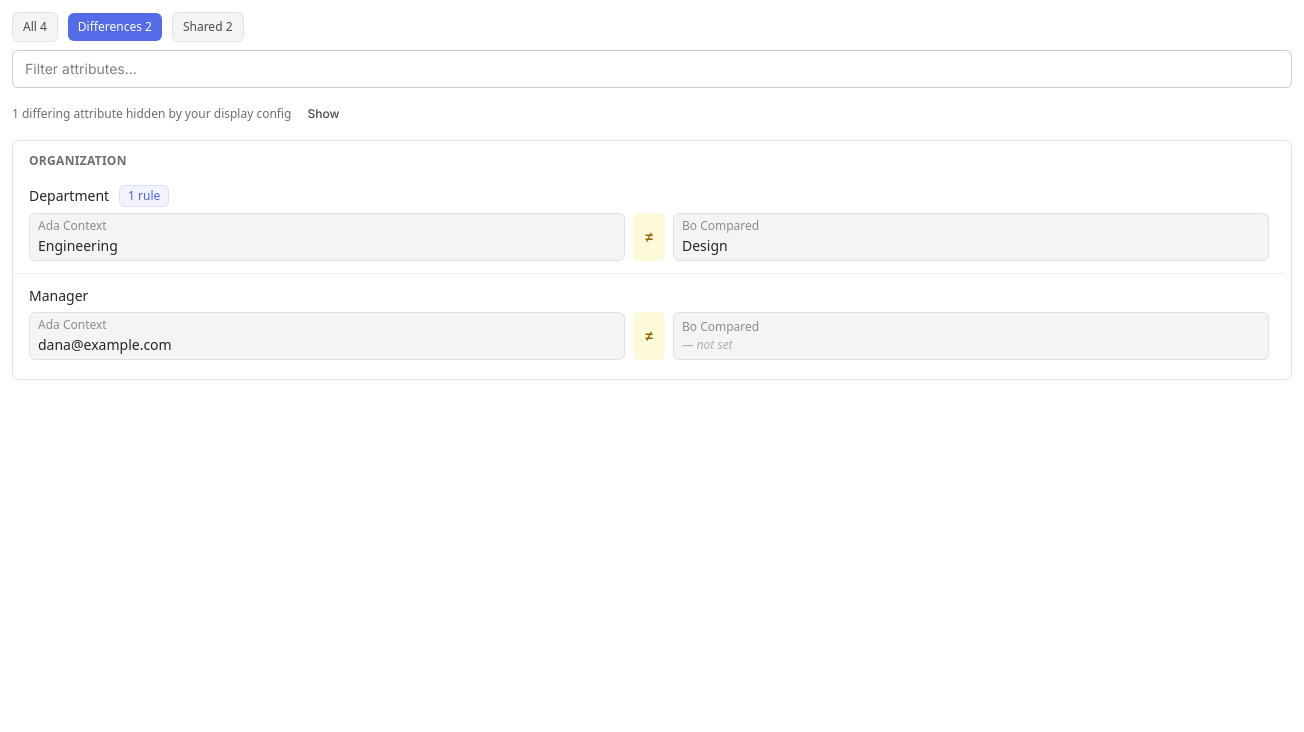
Test: ComparisonAttributesTab › opens on the differences, so an agreement is not listed until All is chosen
Expected: the text "Department" is shown, [29, 186, 109, 206]
Expected: the text "User type" is not shown
Click the button "All 4": (35, 27) [12, 12, 58, 42]
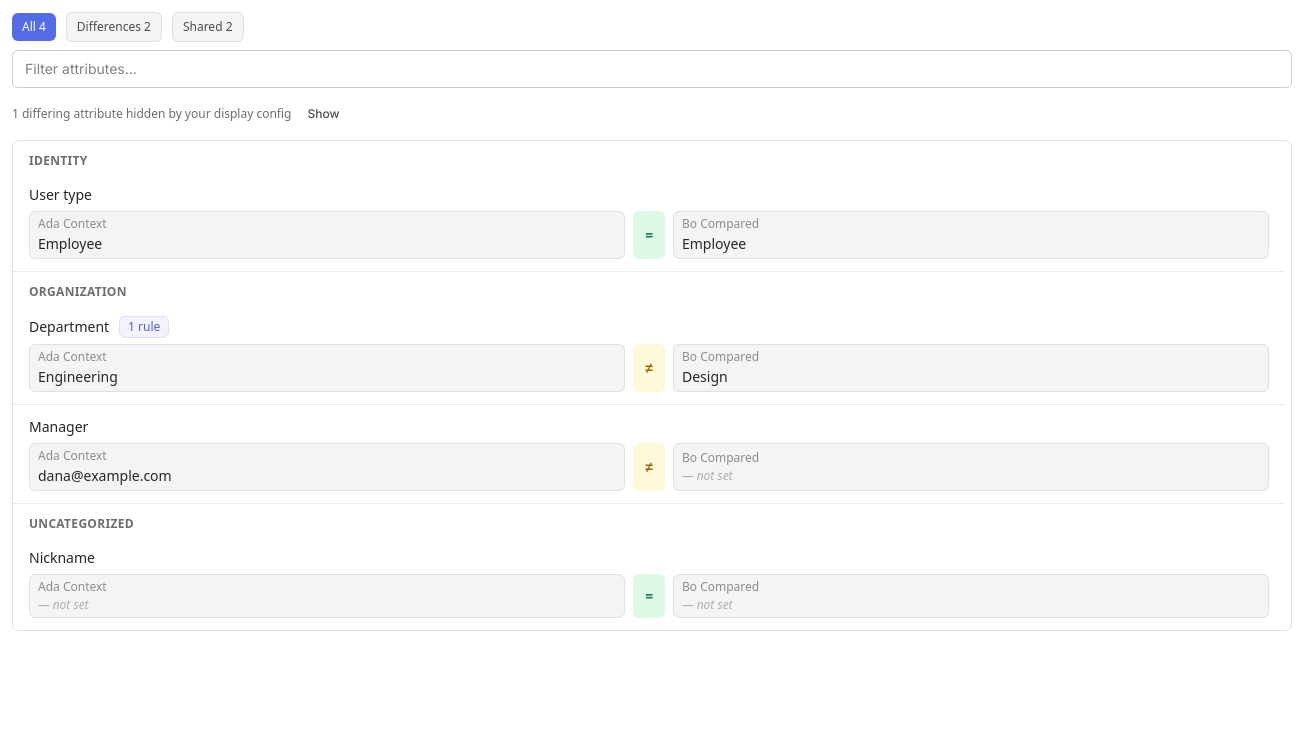
Result: the text "User type" is shown at [29, 185, 92, 205]
Result: the text "Nickname" is shown at [29, 548, 95, 568]
